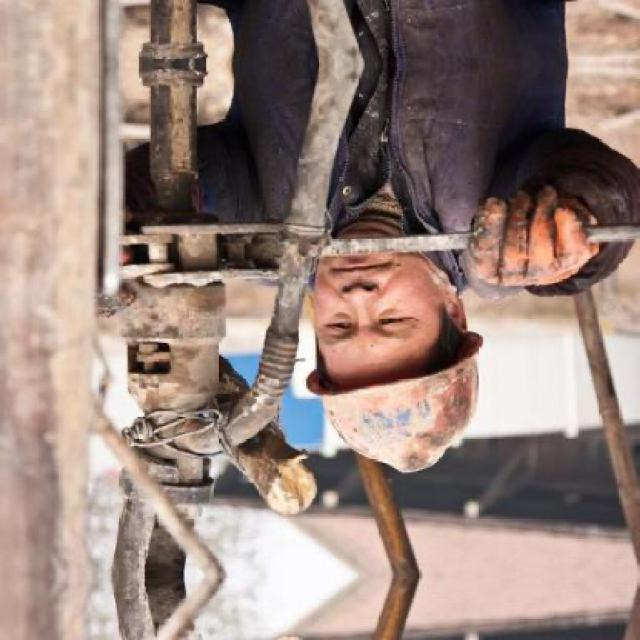con casco: (283, 238, 493, 489)
